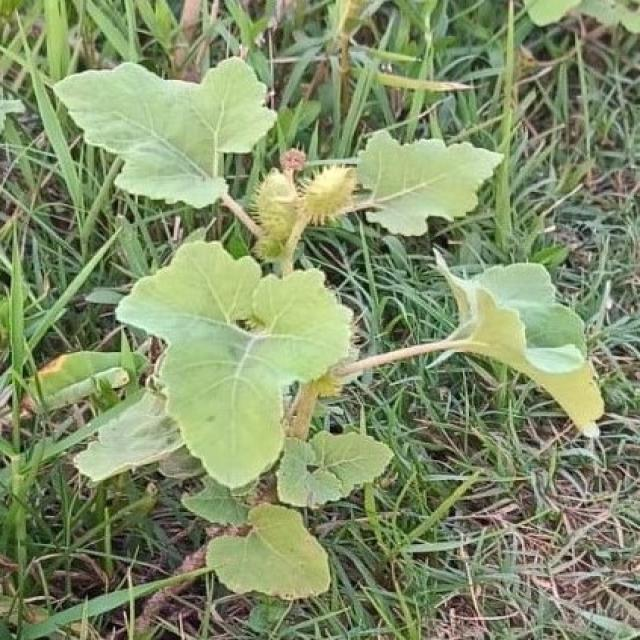weed: (17, 60, 605, 639), (2, 246, 604, 639), (56, 60, 275, 231), (346, 132, 501, 231), (29, 352, 144, 409), (230, 267, 305, 299), (272, 287, 325, 311), (263, 180, 283, 191)
